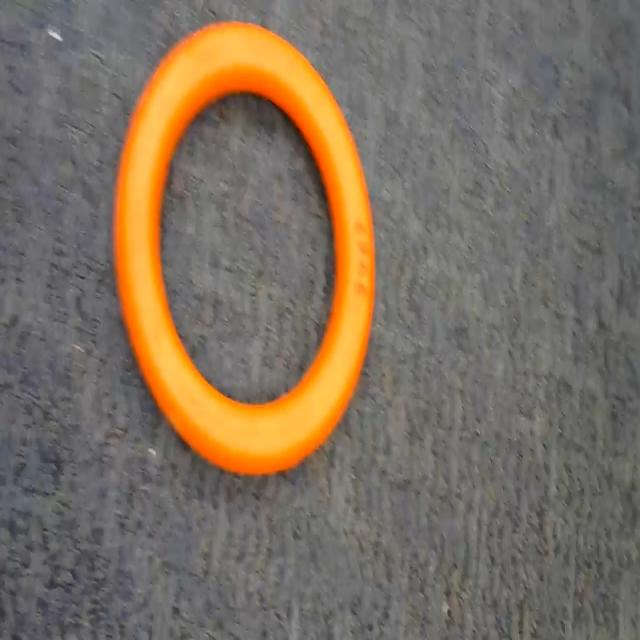note: (112, 21, 386, 489)
